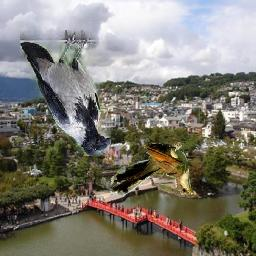Crow: (21, 30, 112, 156)
Cuckoo: (110, 143, 196, 196)
